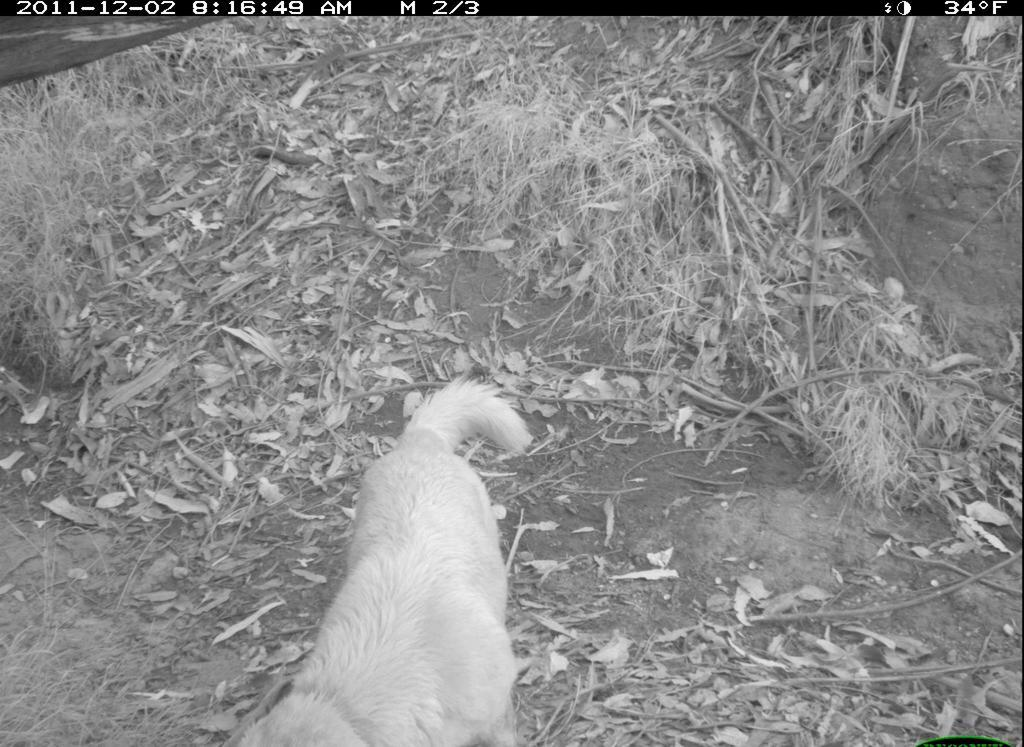dog: (236, 363, 538, 745)
